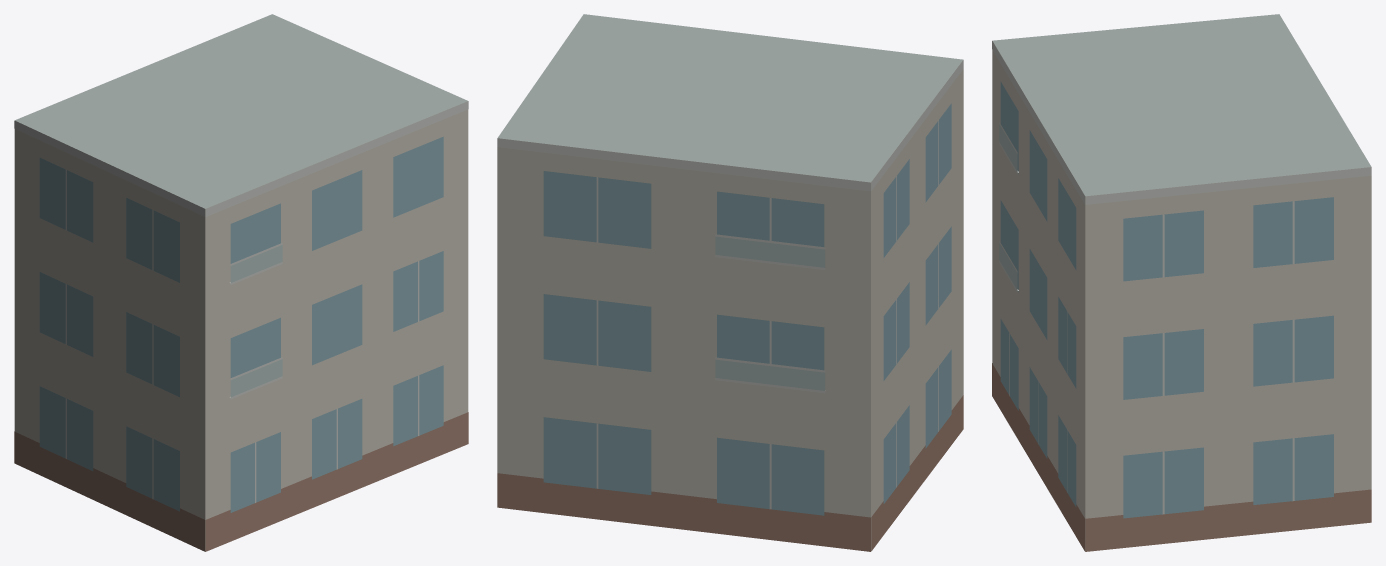
Rendered from survey-upis-33046508.glb.
3 renders of one model, left to right at view 1: azimuth 30°, elevation 25°; view 2: azimuth 150°, elevation 25°; view 3: azimuth 270°, elevation 25°, orthographic. The views are drawn at different scales.
Visible parts, largest first — view 1: survey-upis-33046508.tmp; view 2: survey-upis-33046508.tmp; view 3: survey-upis-33046508.tmp.
Part boxes in pixels (left/top/right/bottom): survey-upis-33046508.tmp: left=14, top=14, right=468, bottom=551; survey-upis-33046508.tmp: left=497, top=14, right=963, bottom=551; survey-upis-33046508.tmp: left=992, top=14, right=1371, bottom=551.
Bounding box in the file's own units: 11.12 × 10.1 × 9.78.
